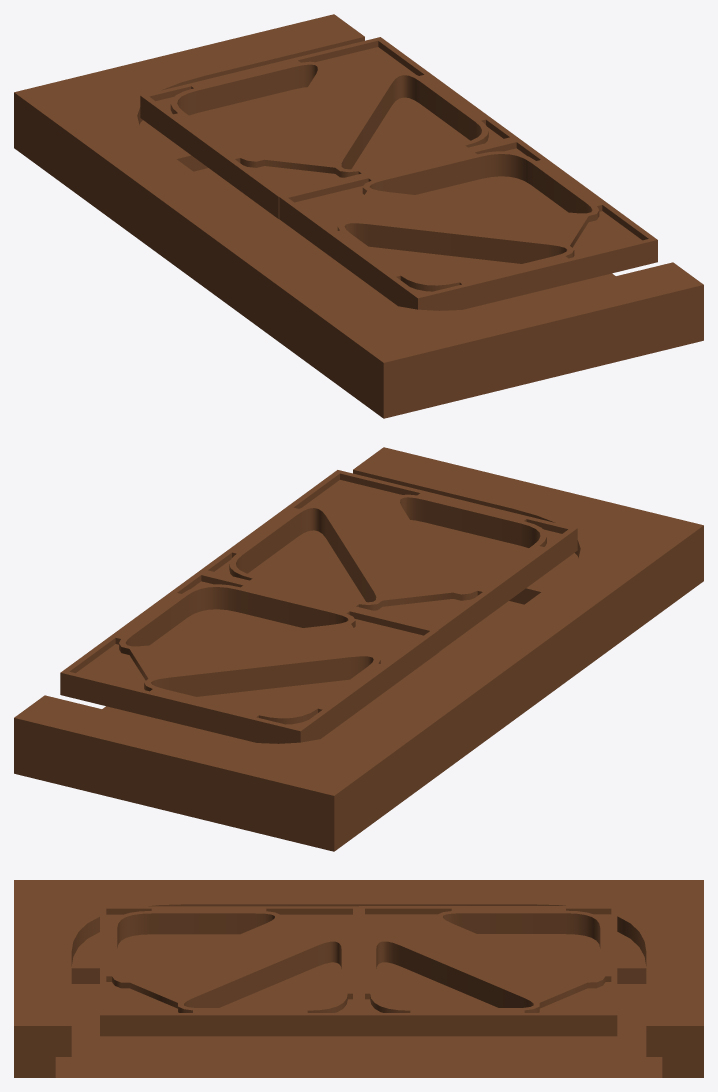
File: Cealing_A_A.FBX
The picture shows the model from 3 angles, top to bottom: view 1: azimuth 30°, elevation 25°; view 2: azimuth 150°, elevation 25°; view 3: azimuth 270°, elevation 25°; orthographic projection. The views are drawn at different scales.
Visible parts, largest first — view 1: Cealing_A_A; view 2: Cealing_A_A; view 3: Cealing_A_A.
Part boxes in pixels (x1,y1,x2,y2): Cealing_A_A: (14,14,703,418); Cealing_A_A: (14,447,703,851); Cealing_A_A: (14,880,703,1077).
Size of the model in its own units: 300 by 60 by 600.
